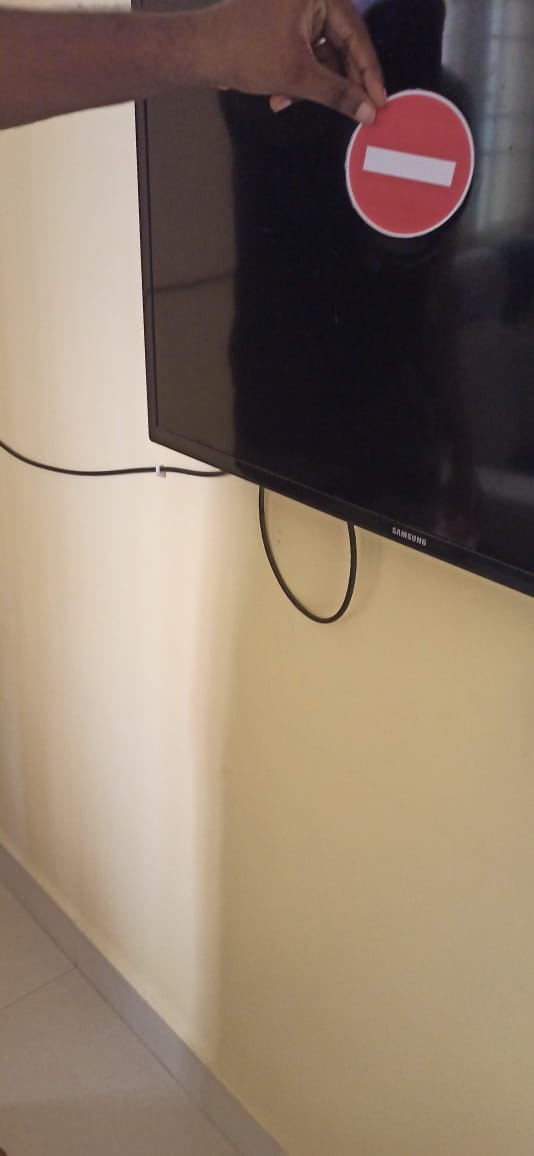NO ENTRY: (320, 75, 498, 264)
